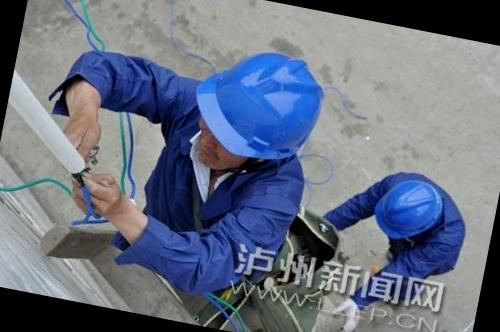helmet: (190, 40, 333, 170), (366, 170, 449, 247)
person: (30, 8, 338, 312), (316, 152, 476, 279)
